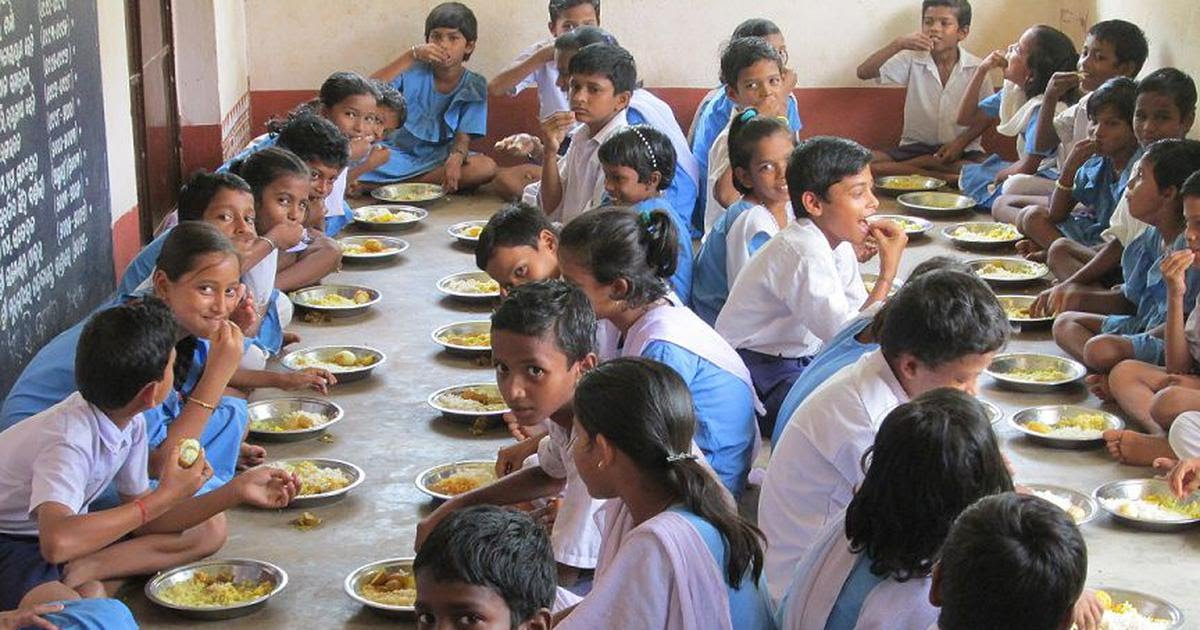student: (887, 393, 1023, 552), (951, 488, 1091, 630), (887, 278, 1007, 400), (68, 304, 179, 417), (792, 137, 896, 242), (724, 118, 804, 201), (717, 42, 787, 117), (553, 33, 628, 96), (1129, 141, 1181, 228), (1140, 66, 1196, 145), (1085, 72, 1133, 157), (1080, 20, 1145, 81), (728, 13, 797, 69), (1003, 22, 1057, 90), (916, 1, 976, 46), (1175, 177, 1200, 257)
studentw: (568, 365, 700, 510), (408, 516, 553, 630), (487, 292, 603, 428), (551, 220, 673, 322), (148, 221, 245, 341), (471, 213, 563, 305), (169, 165, 264, 252), (589, 125, 688, 204), (233, 141, 317, 232), (273, 109, 348, 204), (563, 52, 641, 126), (316, 66, 379, 144), (417, 6, 480, 72), (365, 73, 413, 140), (544, 1, 603, 45)
